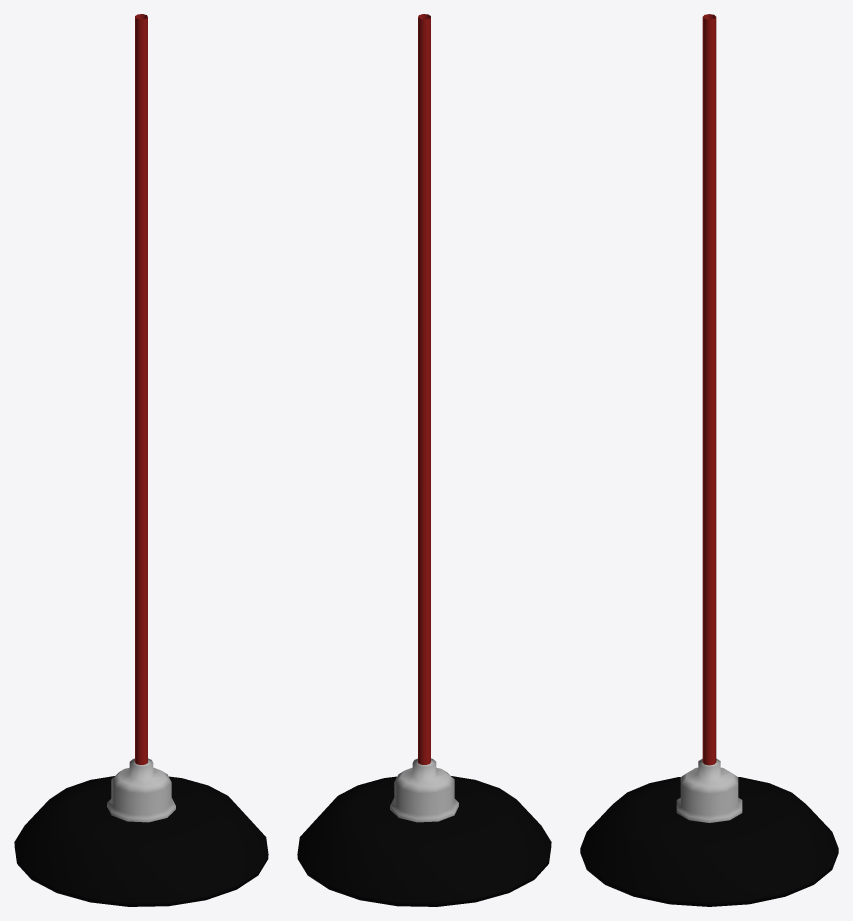
The model's file is SM_Luminus.fbx.
The picture shows the model from 3 angles, left to right: view 1: azimuth 30°, elevation 25°; view 2: azimuth 150°, elevation 25°; view 3: azimuth 270°, elevation 25°; orthographic projection.
Visible parts, largest first — view 1: SD_Lampe; view 2: SD_Lampe; view 3: SD_Lampe.
Boxes of the visible parts, box(x1,y1,x2,y2) form: SD_Lampe: box(14, 14, 268, 906); SD_Lampe: box(297, 14, 551, 906); SD_Lampe: box(580, 14, 838, 906).
Bounding box in the file's own units: 0.5906 × 2.15 × 0.5997.
